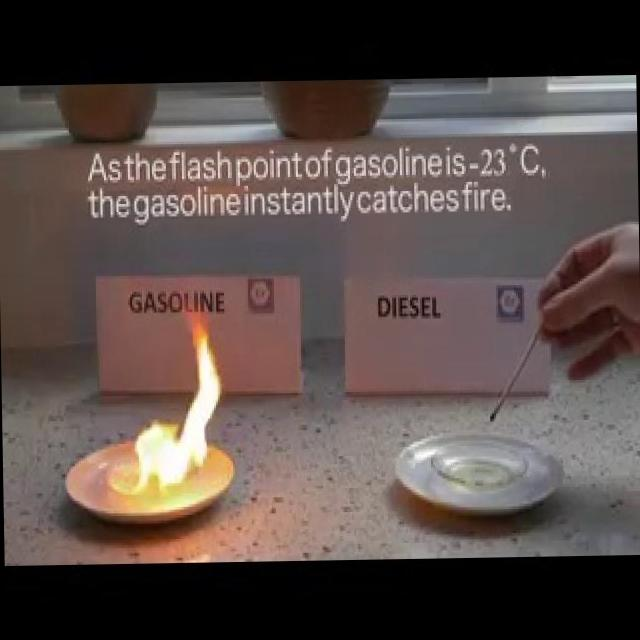Fire: (124, 310, 231, 490)
